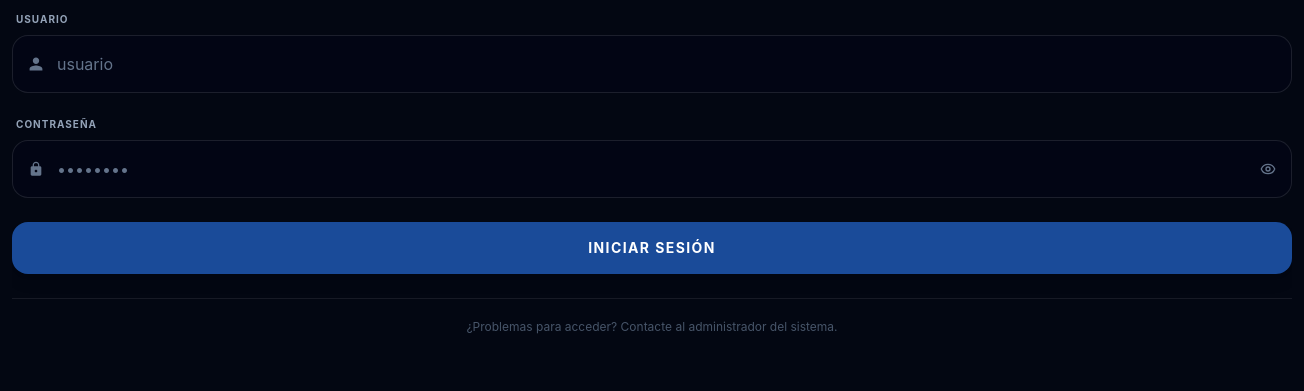
Test: LoginPage › shows validation errors when submitting empty form
Click the button "Iniciar Sesión". click: (652, 248)
box: [12,222,1292,274]
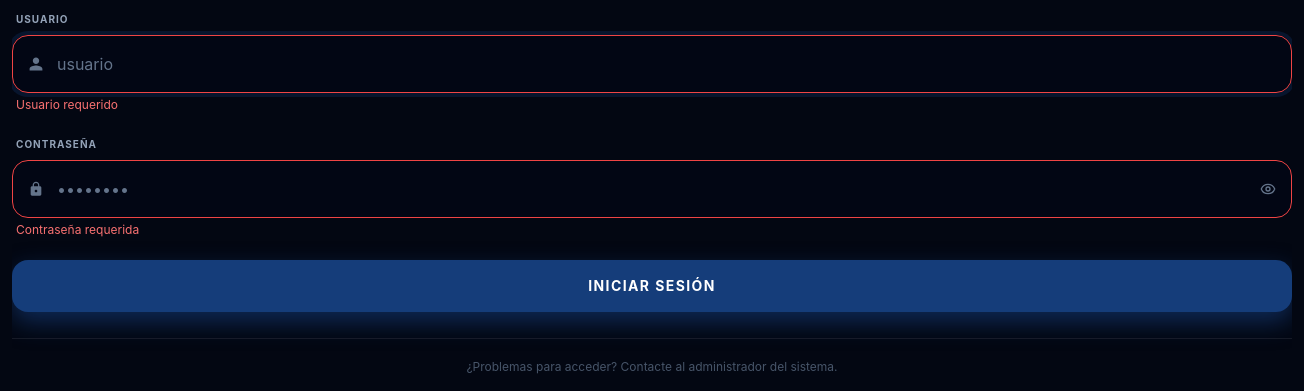
expect the text "Usuario requerido" is shown: met, box [16,97,118,112]
expect the text "Contraseña requerida" is shown: met, box [16,222,139,237]
